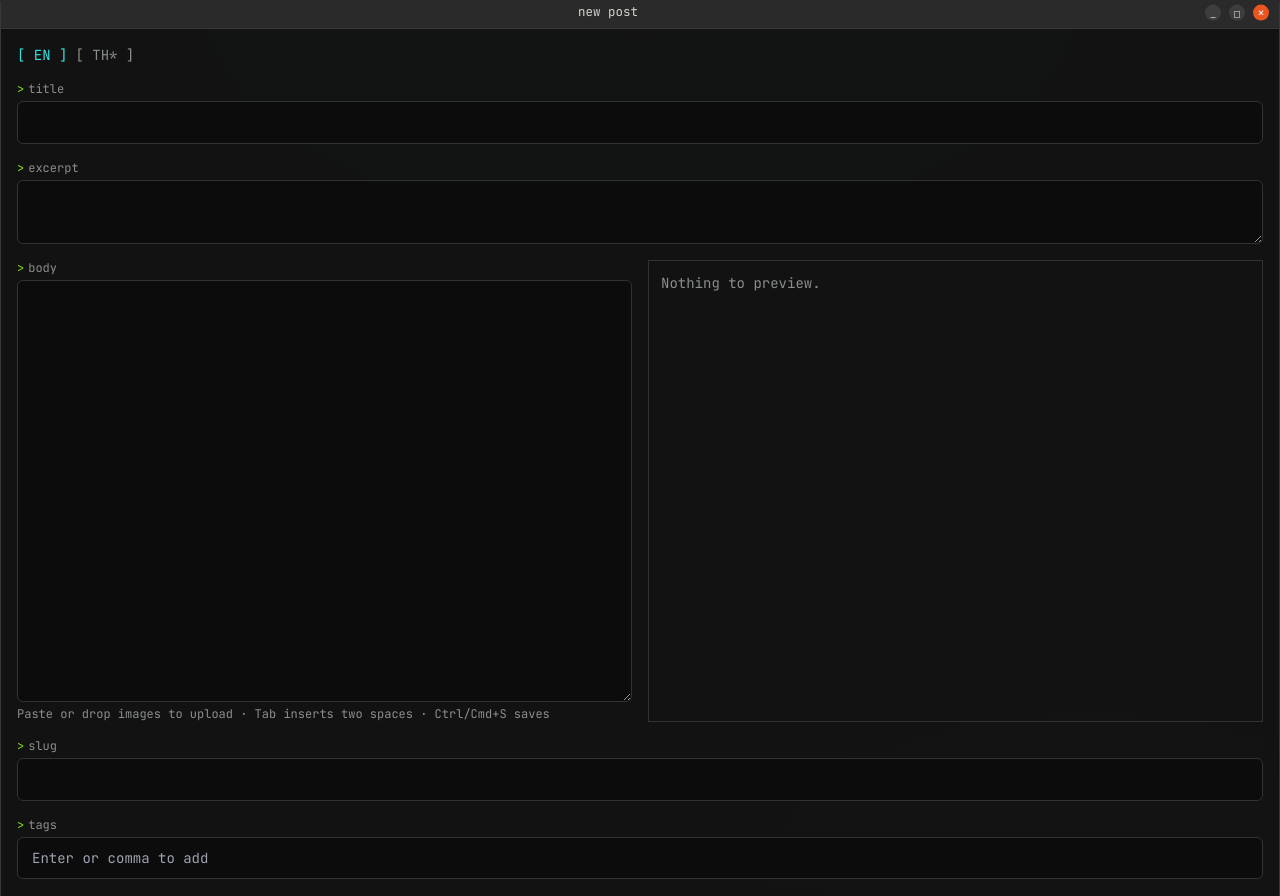
Test: switches to the language tab holding a body error
Type "X" into the field labelled "title" at (640, 122), box [17,101,1263,144]
(page scrolled)
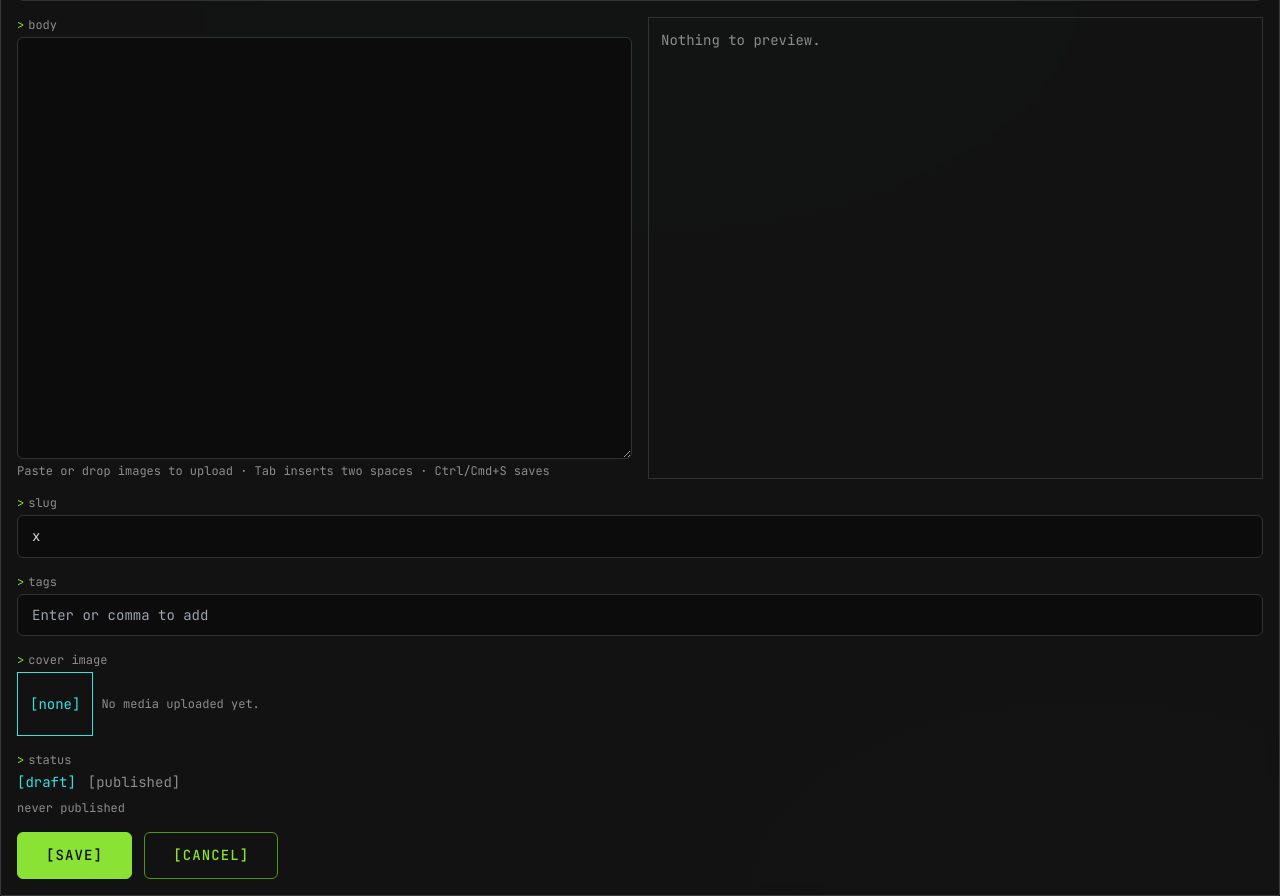
Click the button "[save]" at (75, 856), box [17,832,132,879]
(page scrolled)
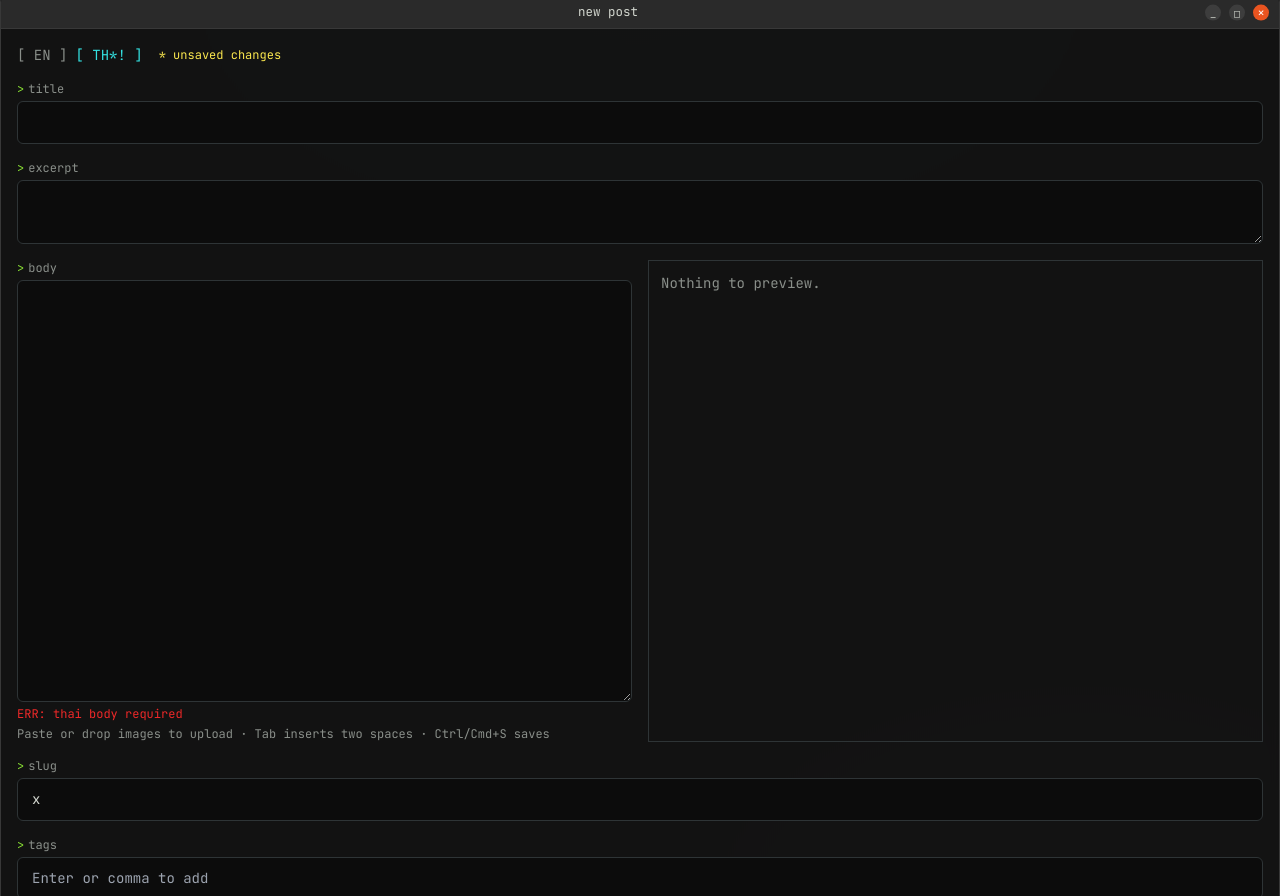
Check: the text "ERR: thai body required" is shown, box [17,706,183,722]
